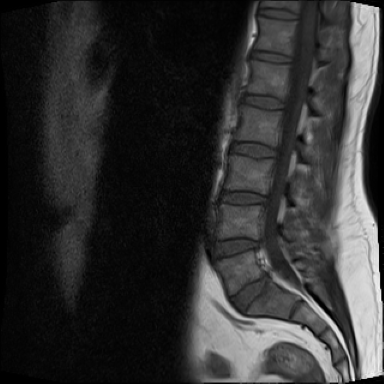Lumbar Disc Bulge (LDB): (207, 234, 262, 265), (212, 191, 271, 210)
Normal IVD: (222, 271, 271, 318), (223, 136, 279, 163), (233, 90, 287, 114), (240, 45, 295, 67), (251, 4, 300, 24)
Spinal Stenosis (SS): (249, 234, 269, 258)
